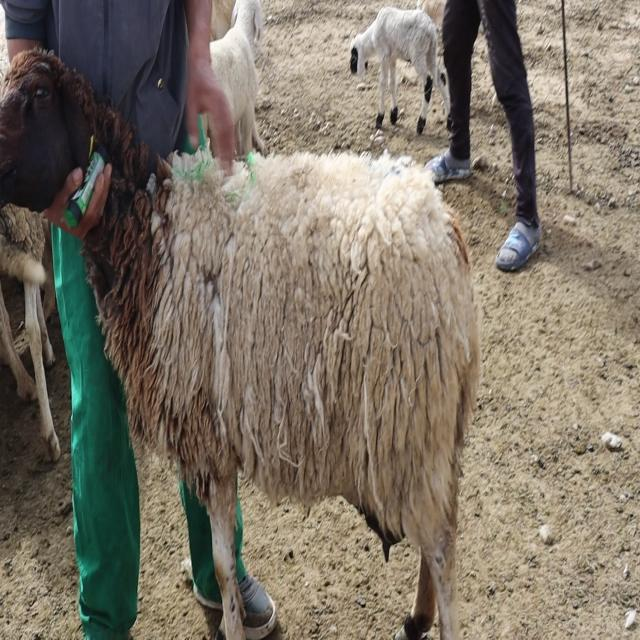Score_1: (0, 50, 480, 639)
